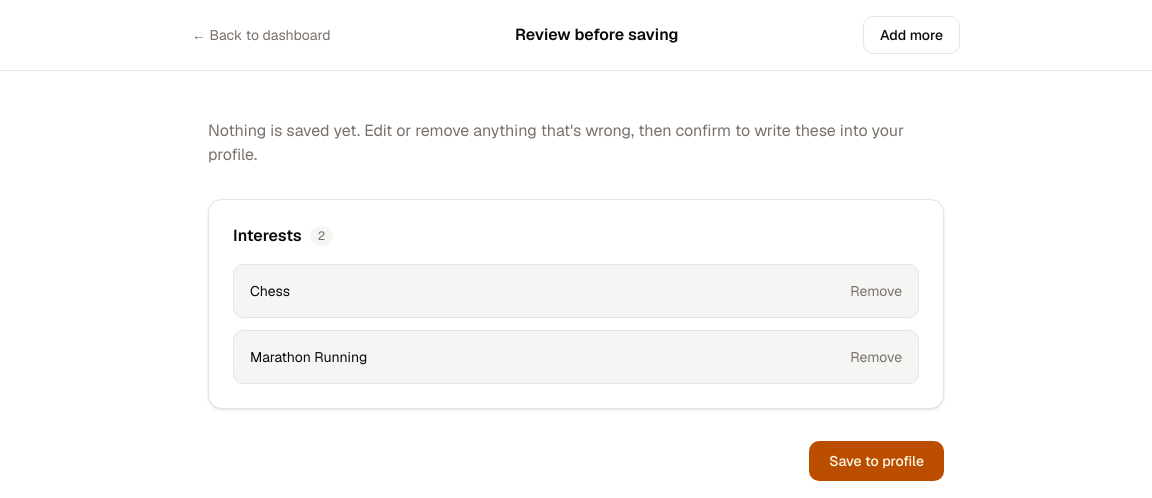
Test case: OnboardingReviewPage › removes an entry from a plain review card when Remove is clicked, keeping the other entry of the same type
Expected: the text "Chess" is shown, [250,282,290,300]
Step 1. Click the button "Remove" in the row of "Chess" → (876, 291), box [850,281,902,301]
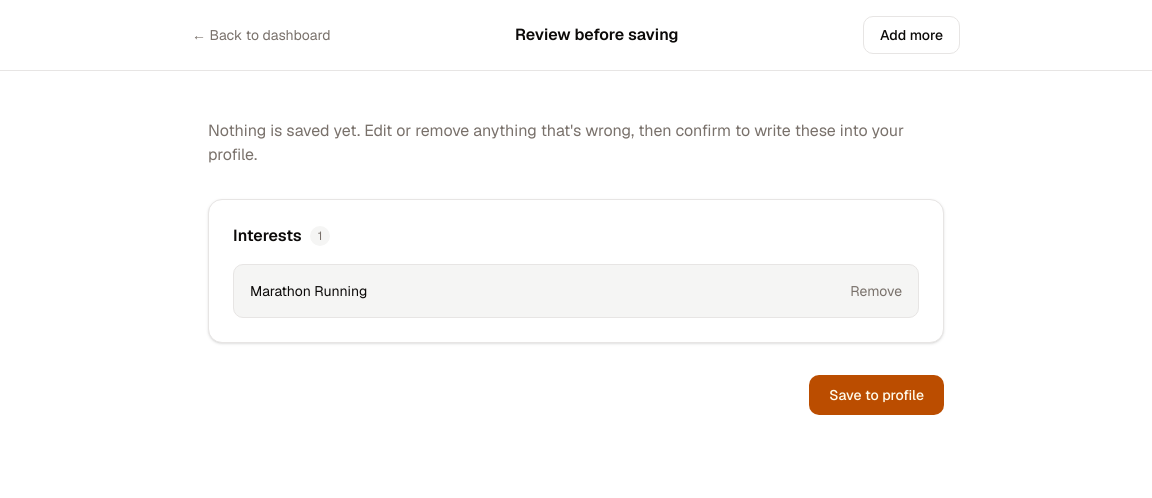
Expected: the text "Chess" is gone
Expected: the text "Marathon Running" is shown, [250,282,367,300]
